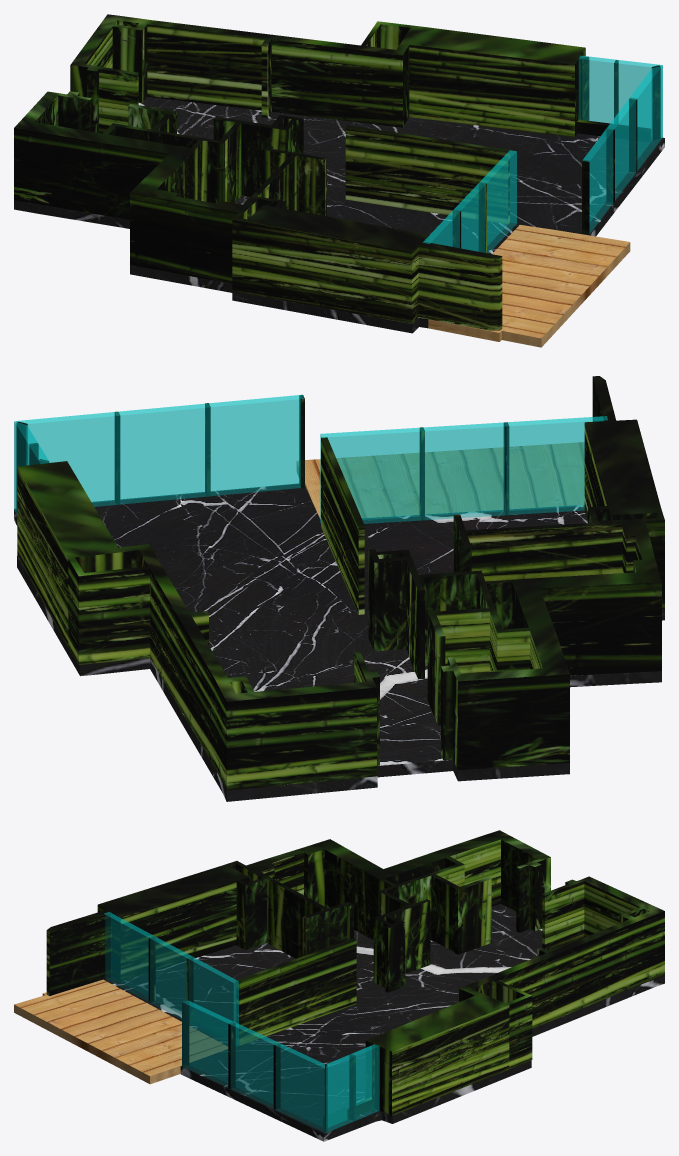
Rendered from unit5.fbx.
3 views of the same model, one above another, from view 1: azimuth 30°, elevation 25°; view 2: azimuth 150°, elevation 25°; view 3: azimuth 270°, elevation 25° (orthographic). The views are drawn at different scales.
Visible parts, largest first — view 1: polySurface5, pCube1, polySurface6, pCube6; view 2: polySurface5, pCube1, polySurface6, pCube6; view 3: polySurface5, pCube1, polySurface6, pCube6.
Part boxes in pixels (x1=…): polySurface5: x1=14, y1=14, x2=660, y2=330; pCube1: x1=14, y1=96, x2=664, y2=333; polySurface6: x1=423, y1=55, x2=662, y2=253; pCube6: x1=428, y1=225, x2=630, y2=347; polySurface5: x1=16, y1=376, x2=664, y2=790; pCube1: x1=14, y1=483, x2=664, y2=801; polySurface6: x1=14, y1=394, x2=607, y2=523; pCube6: x1=297, y1=442, x2=584, y2=519; polySurface5: x1=46, y1=830, x2=664, y2=1131; pCube1: x1=103, y1=904, x2=664, y2=1141; polySurface6: x1=104, y1=912, x2=379, y2=1132; pCube6: x1=14, y1=979, x2=227, y2=1084.
Size of the model in its own units: 14.24 by 2.01 by 16.37.
4 materials, 3 textured.
